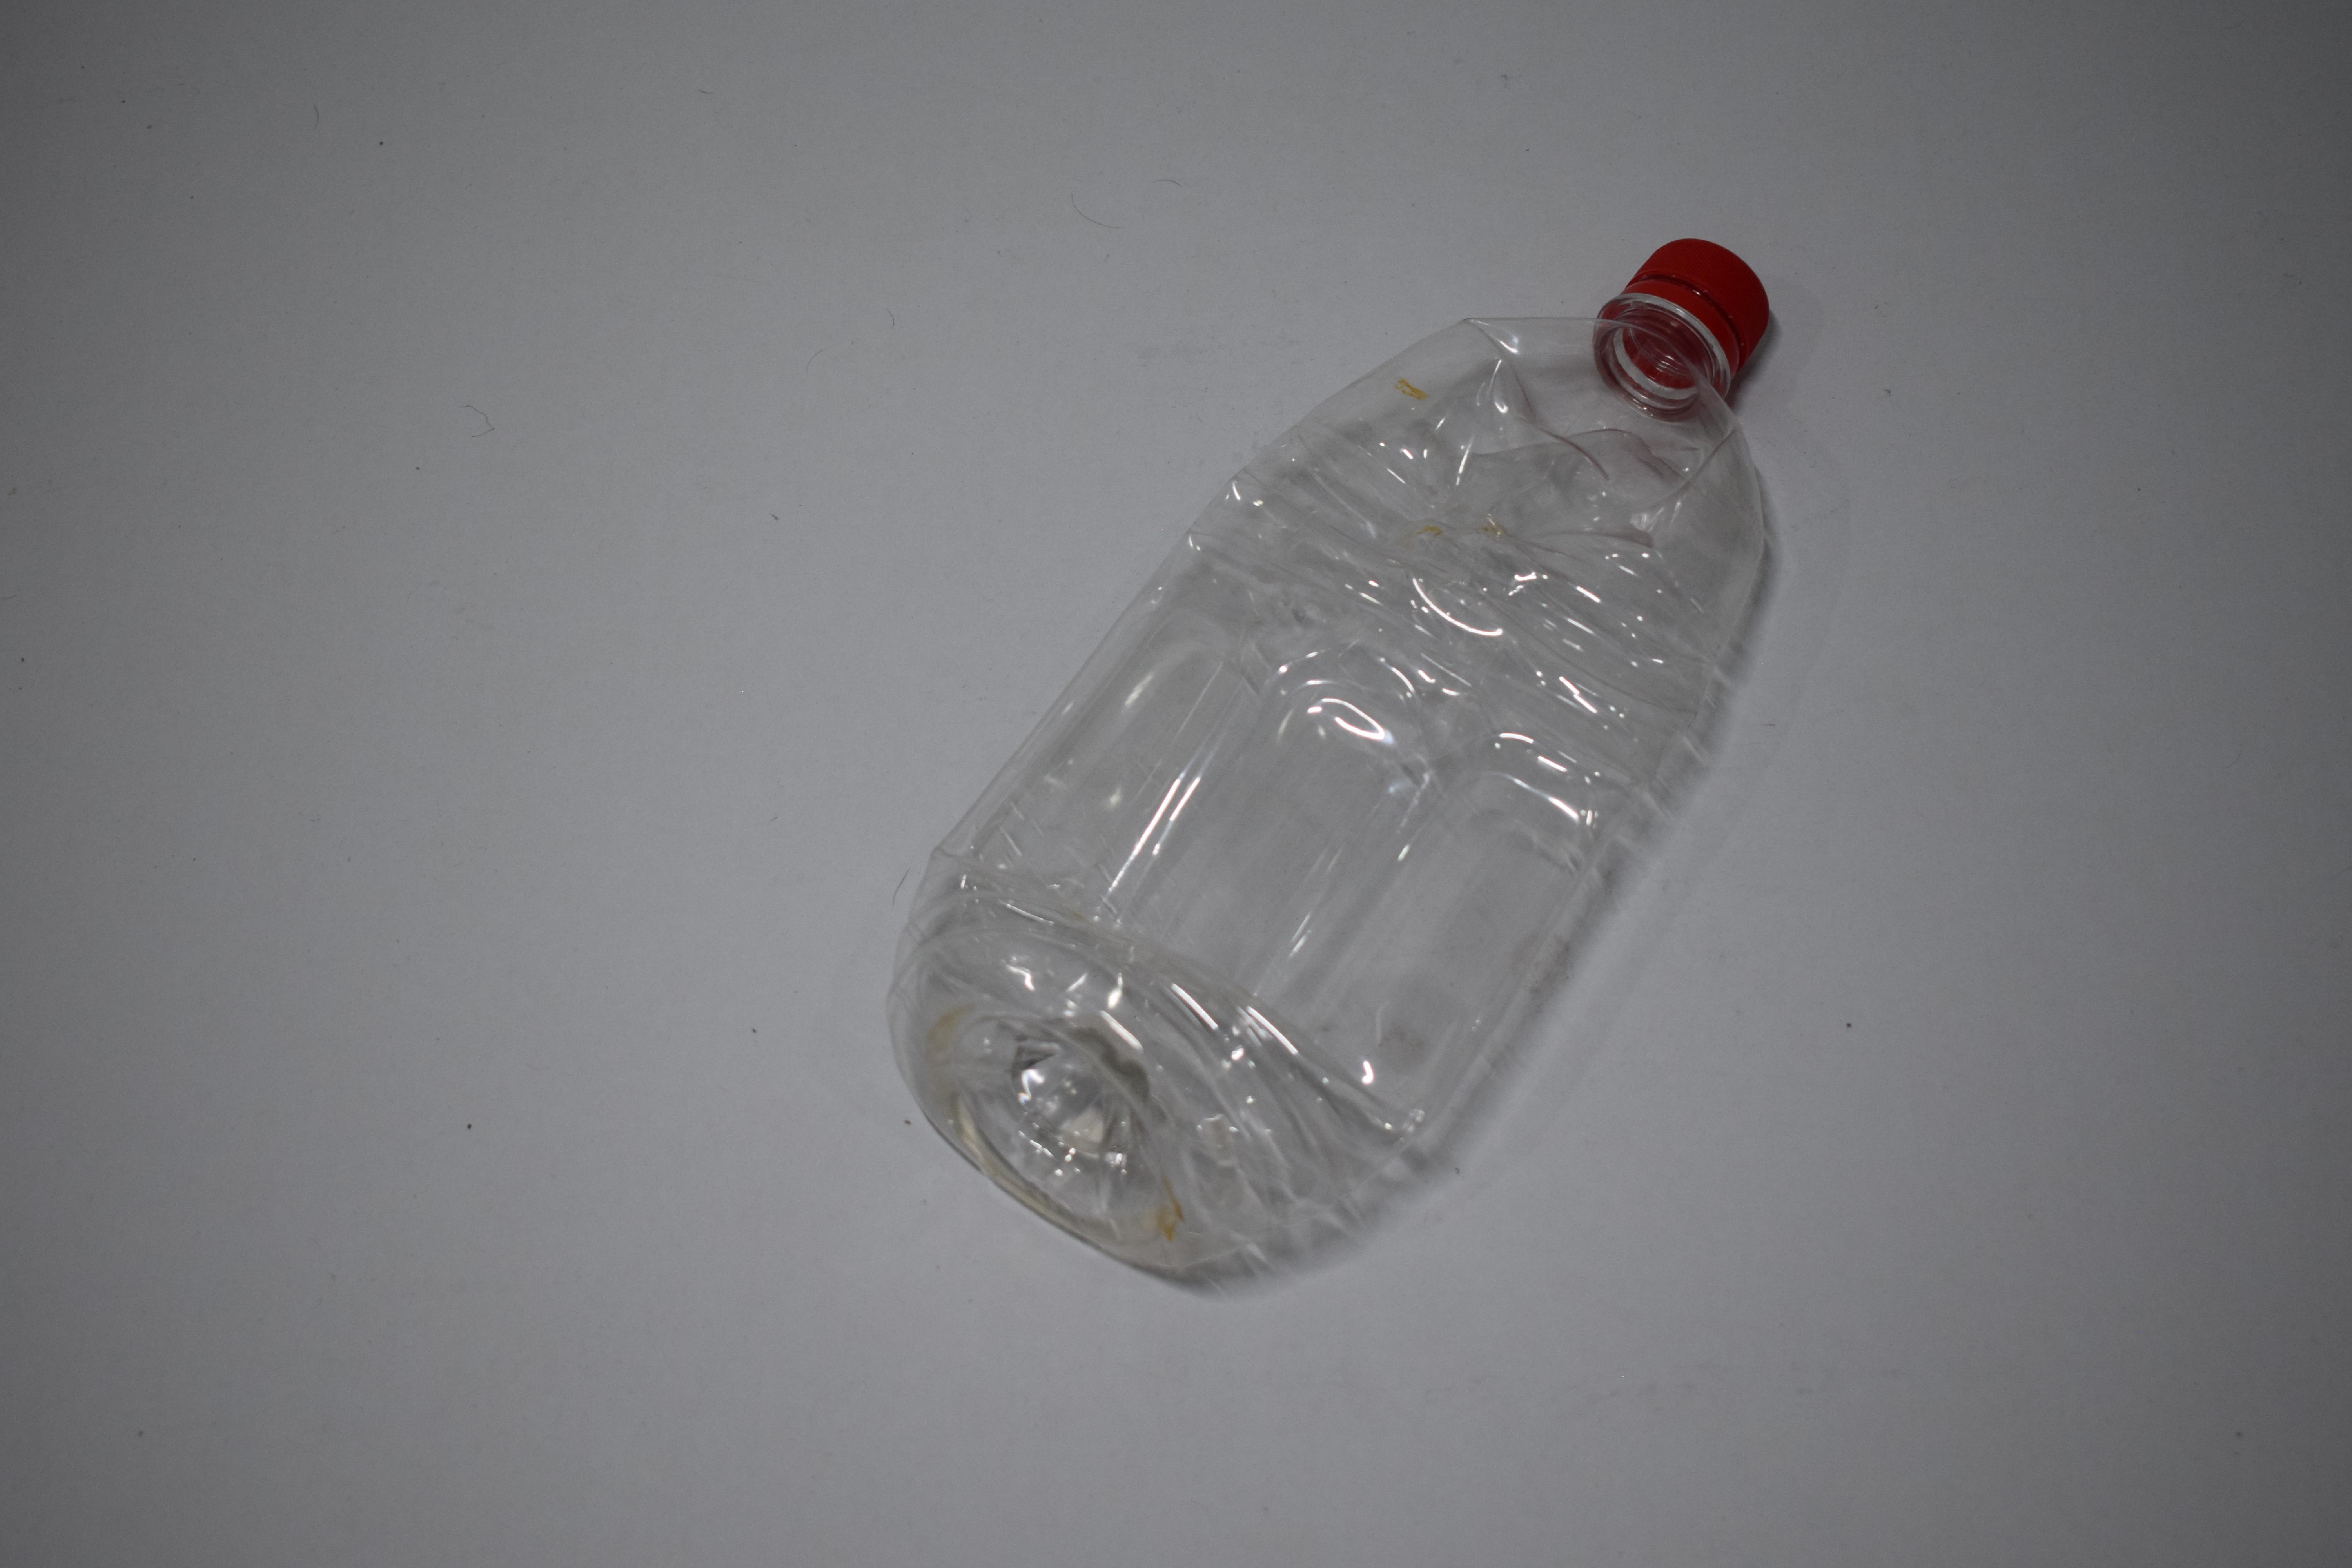bottle: (0, 228, 604, 1290)
